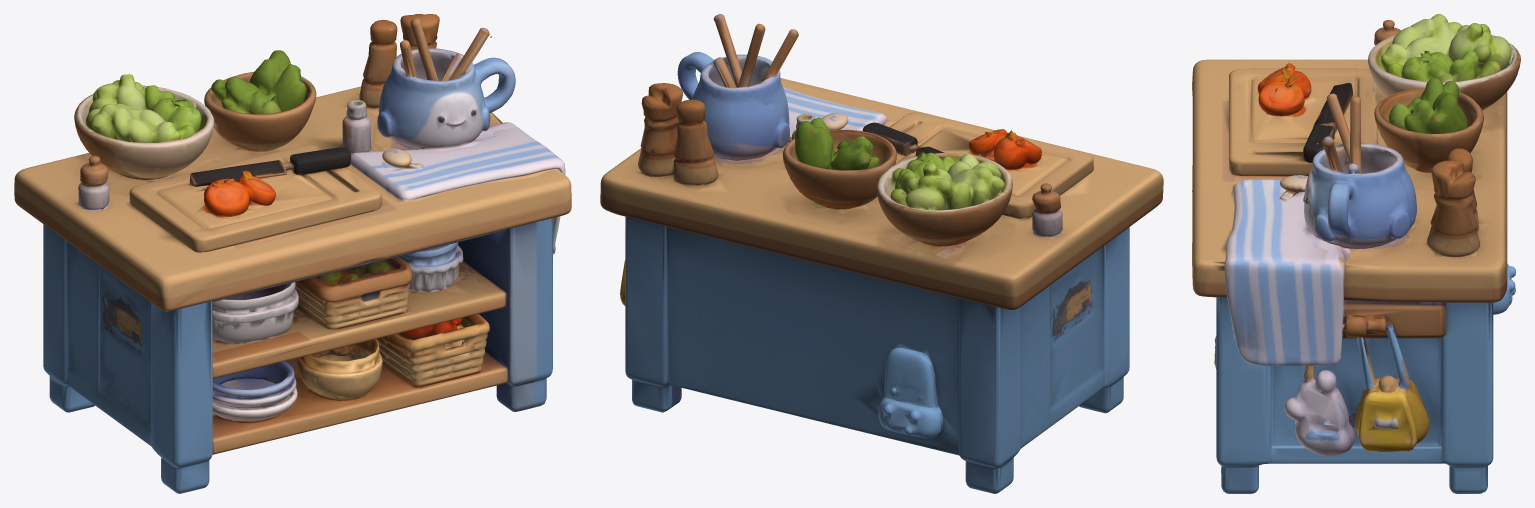
The model's file is table.glb.
3 renders of one model, left to right at view 1: azimuth 30°, elevation 25°; view 2: azimuth 150°, elevation 25°; view 3: azimuth 270°, elevation 25°, orthographic. The views are drawn at different scales.
Parts seen in each view (by area): view 1: table_mesh; view 2: table_mesh; view 3: table_mesh.
Boxes of the visible parts, x1=… form: table_mesh: x1=14, y1=14, x2=571, y2=493; table_mesh: x1=600, y1=14, x2=1163, y2=493; table_mesh: x1=1192, y1=14, x2=1520, y2=493.
Size of the model in its own units: 1.92 by 1.47 by 1.2.
1 material, 1 textured.
